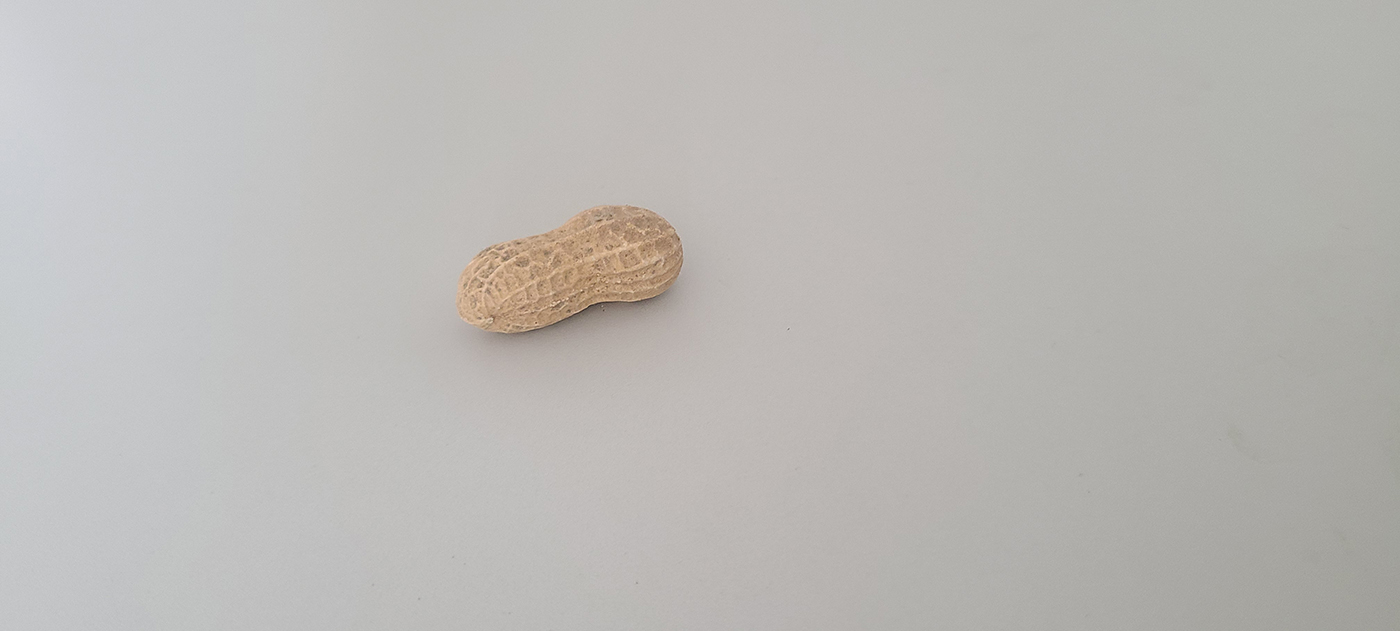h: (456, 204, 684, 336)
